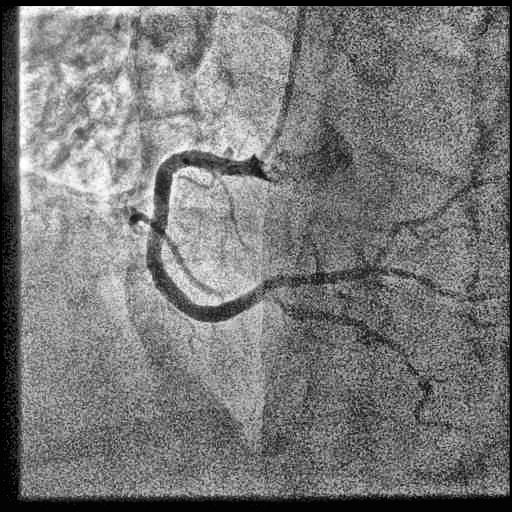pborca: (267, 266, 465, 301)
pda: (270, 292, 441, 426)
rca: (146, 150, 267, 322)
